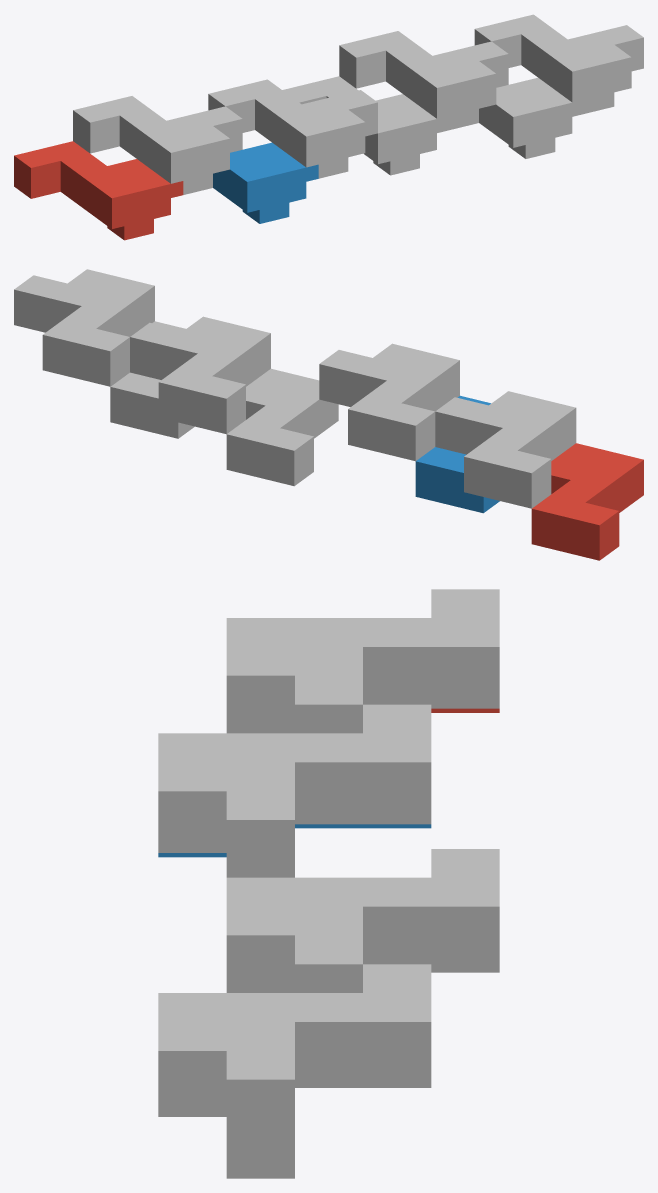
File: tiling.obj
3 renders of one model, top to bottom at view 1: azimuth 30°, elevation 25°; view 2: azimuth 150°, elevation 25°; view 3: azimuth 270°, elevation 25°, orthographic. The views are drawn at different scales.
Parts seen in each view (by area): view 1: copy_1_domain_7, copy_1_domain_3, copy_1_domain_1, copy_1_domain_4, copy_1_domain_8, copy_1_domain_5, copy_1_domain_2, copy_1_domain_6; view 2: copy_1_domain_3, copy_1_domain_7, copy_1_domain_8, copy_1_domain_4, copy_1_domain_1, copy_1_domain_5, copy_1_domain_2, copy_1_domain_6; view 3: copy_1_domain_8, copy_1_domain_4, copy_1_domain_7, copy_1_domain_3, copy_1_domain_6, copy_1_domain_2.
Part boxes in pixels (bbox=[...]): copy_1_domain_7: bbox=[339, 31, 508, 129]; copy_1_domain_3: bbox=[73, 96, 242, 194]; copy_1_domain_1: bbox=[14, 141, 183, 240]; copy_1_domain_4: bbox=[208, 79, 377, 178]; copy_1_domain_8: bbox=[474, 14, 643, 113]; copy_1_domain_5: bbox=[282, 76, 449, 175]; copy_1_domain_2: bbox=[213, 142, 318, 223]; copy_1_domain_6: bbox=[479, 77, 584, 158]; copy_1_domain_3: bbox=[435, 391, 576, 508]; copy_1_domain_7: bbox=[130, 316, 270, 434]; copy_1_domain_8: bbox=[14, 269, 154, 386]; copy_1_domain_4: bbox=[319, 343, 459, 461]; copy_1_domain_1: bbox=[531, 443, 643, 560]; copy_1_domain_5: bbox=[226, 368, 338, 486]; copy_1_domain_2: bbox=[415, 395, 499, 513]; copy_1_domain_6: bbox=[110, 321, 194, 438]; copy_1_domain_8: bbox=[158, 964, 431, 1174]; copy_1_domain_4: bbox=[158, 704, 431, 877]; copy_1_domain_7: bbox=[226, 849, 499, 992]; copy_1_domain_3: bbox=[226, 589, 499, 733]; copy_1_domain_6: bbox=[158, 1084, 431, 1178]; copy_1_domain_2: bbox=[158, 824, 431, 857].
Bounding box in the file's own units: 19 × 3 × 5.
